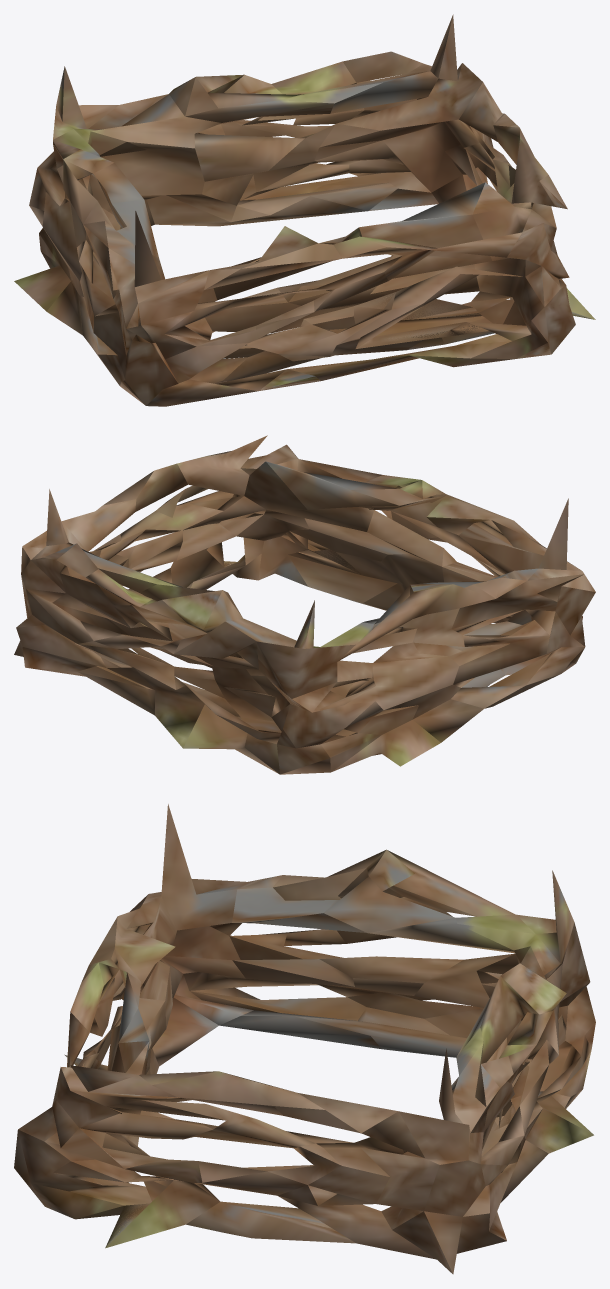
File: AphidPen_lod.glb
The picture shows the model from 3 angles, top to bottom: view 1: azimuth 30°, elevation 25°; view 2: azimuth 150°, elevation 25°; view 3: azimuth 270°, elevation 25°; orthographic projection. The views are drawn at different scales.
Visible parts, largest first — view 1: AphidPen; view 2: AphidPen; view 3: AphidPen.
Boxes of the visible parts, left/top/right/bottom form: AphidPen: left=14, top=14, right=595, bottom=406; AphidPen: left=14, top=435, right=595, bottom=774; AphidPen: left=14, top=804, right=595, bottom=1274.
Bounding box in the file's own units: 0.9598 × 0.3628 × 0.8804.
Materials: 1 (1 with a texture image).
